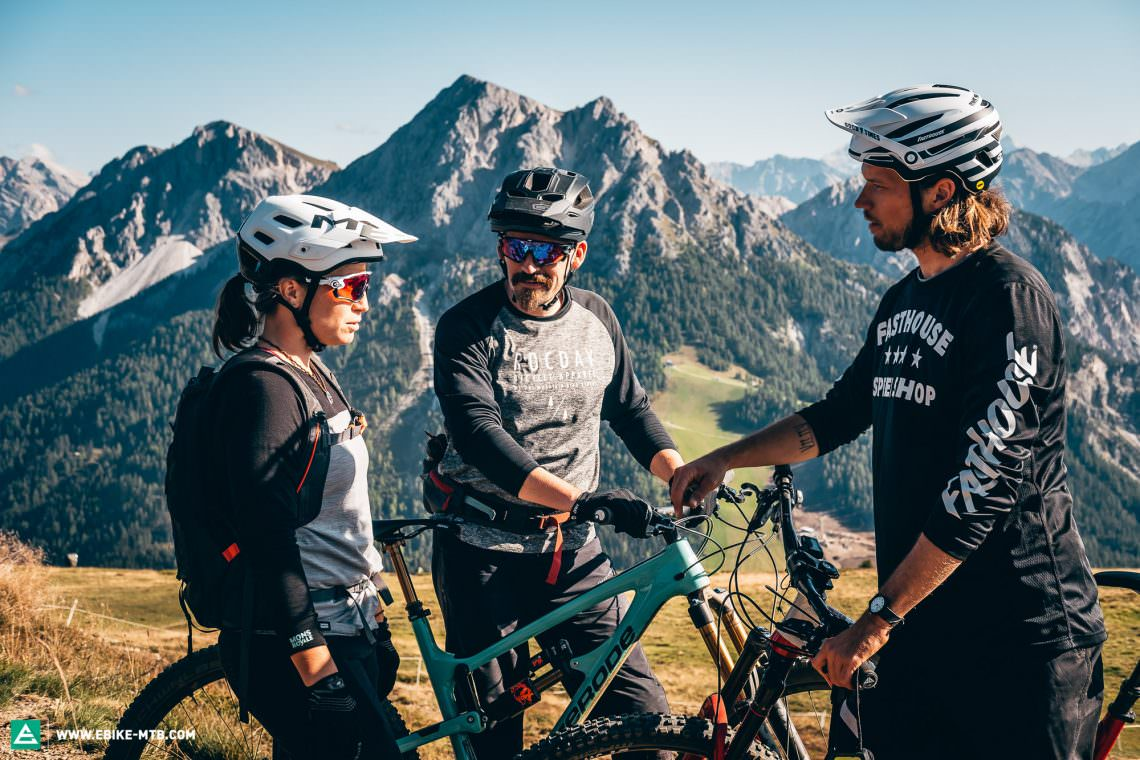helmet: (825, 83, 1003, 253), (235, 194, 419, 345), (487, 167, 596, 313)
